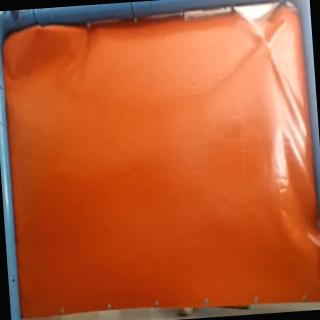Hit-hRxx: (262, 38, 276, 53)
